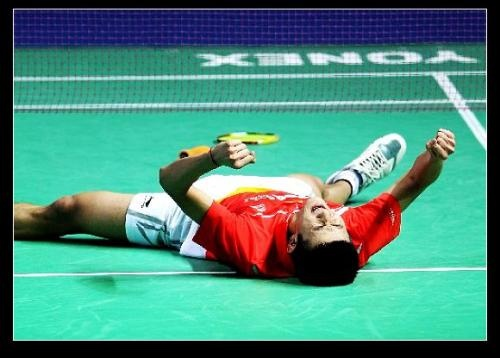falling: (15, 113, 468, 284)
